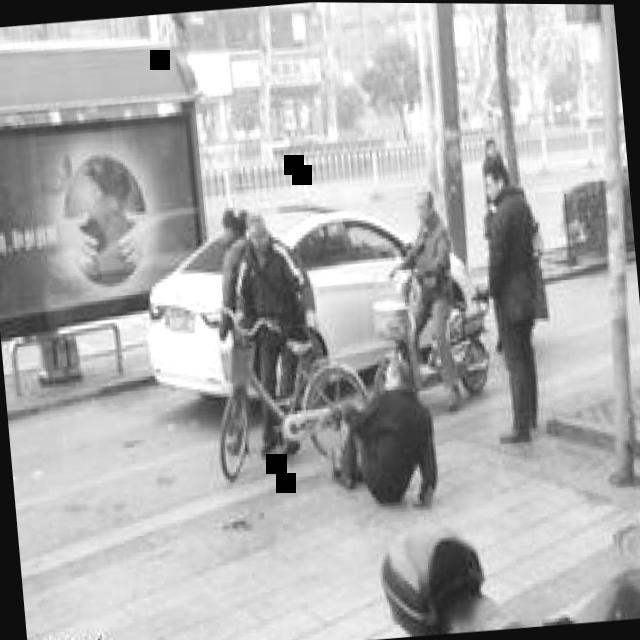Fall-Detected: (313, 331, 455, 511)
